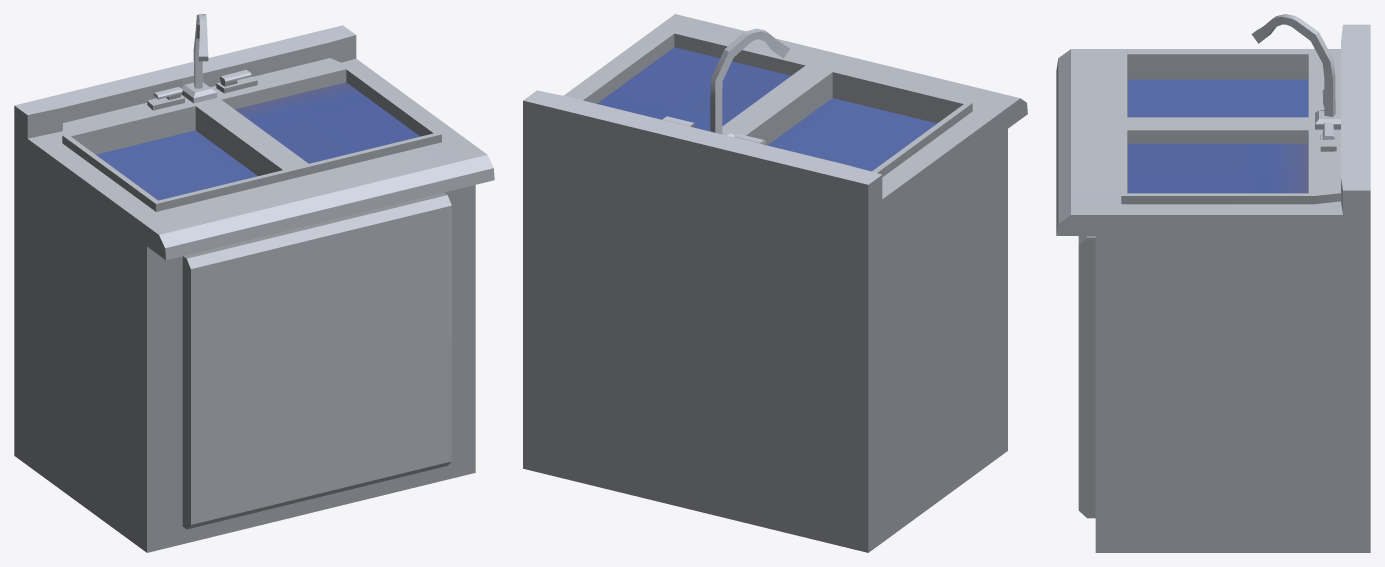
File: MetalSink_Mesh.fbx
The picture shows the model from 3 angles, left to right: view 1: azimuth 30°, elevation 25°; view 2: azimuth 150°, elevation 25°; view 3: azimuth 270°, elevation 25°; orthographic projection. The views are drawn at different scales.
Parts seen in each view (by area): view 1: MetalSink_Mesh; view 2: MetalSink_Mesh; view 3: MetalSink_Mesh.
Boxes of the visible parts, box(x1,y1,x2,y2) form: MetalSink_Mesh: box(14, 14, 494, 552); MetalSink_Mesh: box(523, 14, 1027, 552); MetalSink_Mesh: box(1056, 14, 1370, 552).
Bounding box in the file's own units: 100 × 125 × 79.99.
Materials: 1 (1 with a texture image).
